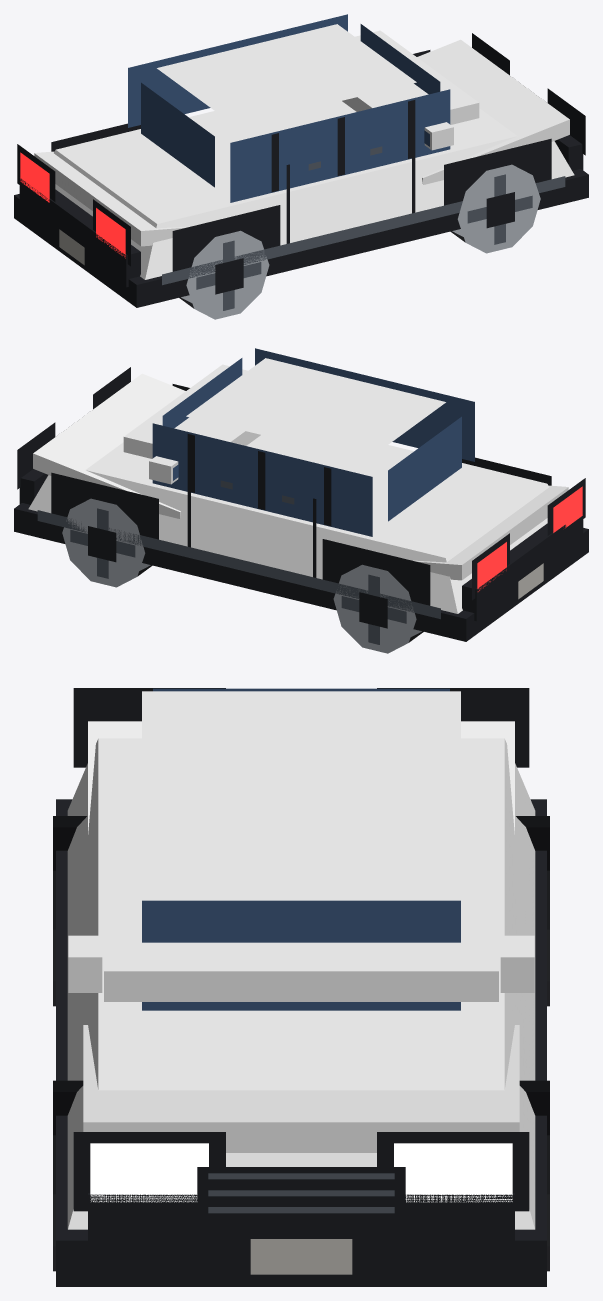
Rendered from car_coupe.glb.
3 views of the same model, one above another, from view 1: azimuth 30°, elevation 25°; view 2: azimuth 150°, elevation 25°; view 3: azimuth 270°, elevation 25° (orthographic). The views are drawn at different scales.
Parts seen in each view (by area): view 1: car_coupe; view 2: car_coupe; view 3: car_coupe.
Part boxes in pixels (x1,y1,x2,y2): car_coupe: (14, 14, 588, 319); car_coupe: (14, 348, 588, 653); car_coupe: (53, 688, 549, 1286).
Size of the model in its own units: 0.3761 by 0.13 by 0.1804.
